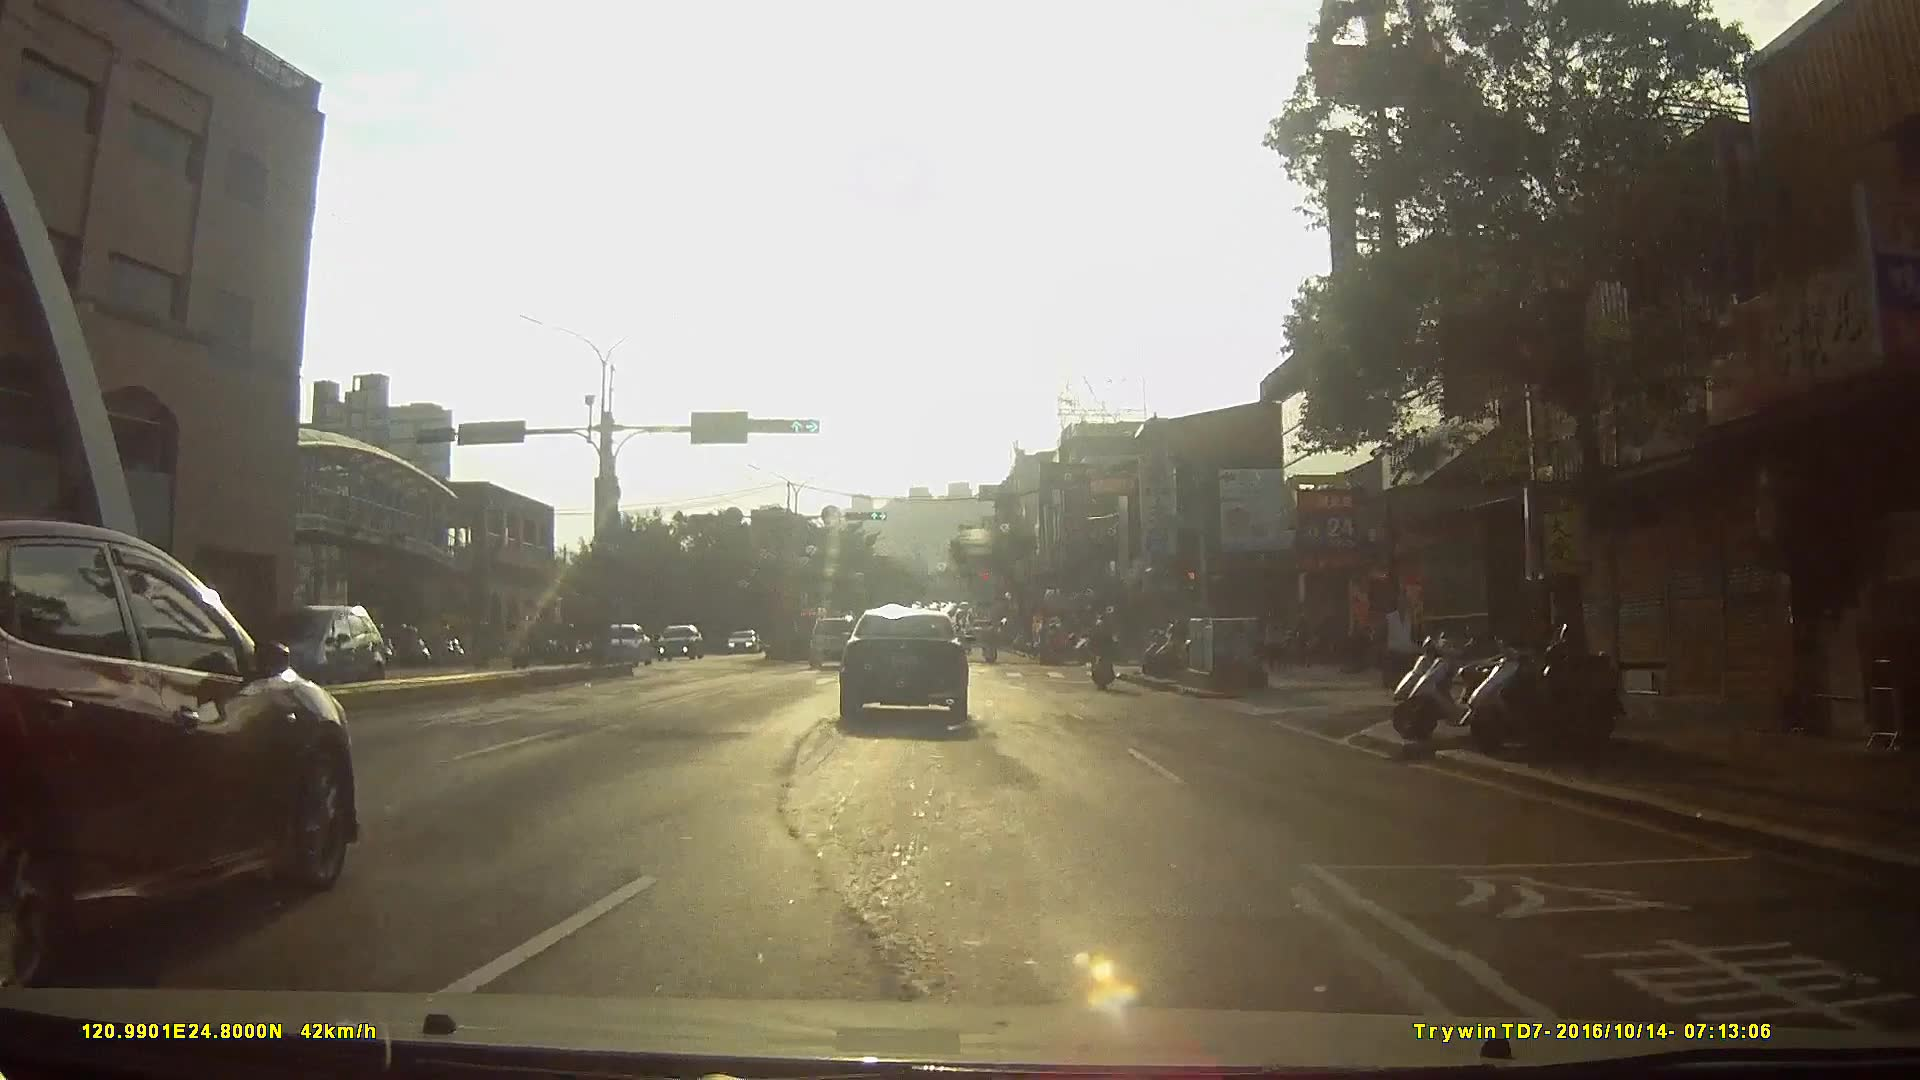pedestrian: (1375, 592, 1422, 709)
rider: (385, 626, 435, 673), (1087, 620, 1115, 694), (1037, 624, 1072, 669), (981, 625, 1001, 668)
vehicle: (1, 522, 368, 992), (837, 610, 984, 735), (226, 600, 390, 701), (806, 620, 865, 675), (592, 625, 657, 671), (657, 622, 707, 664), (725, 628, 763, 657)
